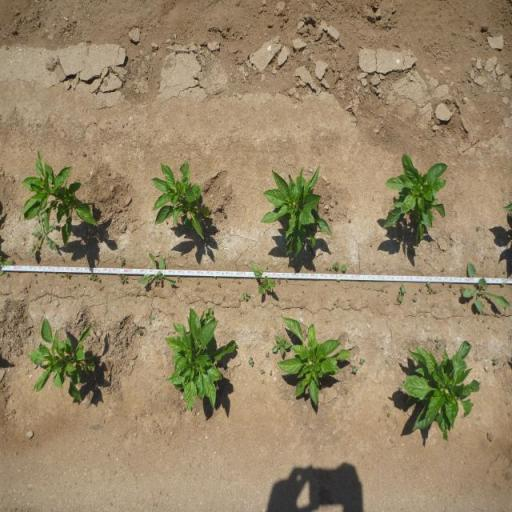plant: (396, 340, 483, 442), (18, 146, 102, 248), (162, 304, 238, 416), (378, 146, 452, 254), (260, 161, 334, 260), (279, 313, 351, 409), (29, 313, 99, 404), (148, 157, 212, 243)
weed: (462, 262, 510, 316), (136, 250, 176, 290), (28, 213, 60, 261), (250, 260, 276, 297), (271, 332, 291, 360), (328, 261, 348, 282), (426, 281, 438, 295), (88, 272, 102, 283), (117, 273, 129, 285), (240, 290, 250, 304), (399, 283, 407, 295), (492, 356, 500, 367), (247, 356, 254, 368), (396, 294, 404, 303), (147, 316, 155, 324), (358, 358, 366, 366), (352, 366, 358, 376), (258, 368, 266, 375), (265, 350, 270, 358)
